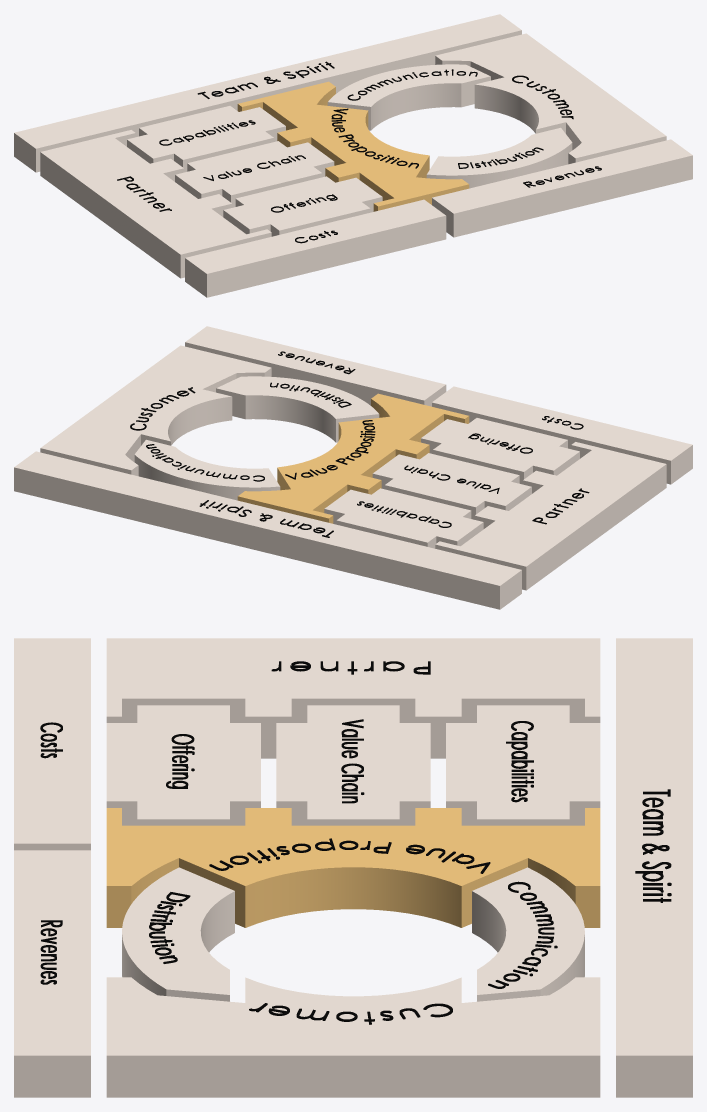
The model's file is 20250832_Canvas.glb.
The picture shows the model from 3 angles, top to bottom: view 1: azimuth 30°, elevation 25°; view 2: azimuth 150°, elevation 25°; view 3: azimuth 270°, elevation 25°; orthographic projection. The views are drawn at different scales.
Visible parts, largest first — view 1: 20250730_Partner-1, 20250730_Team-1, 20250730_Customer-1, 20250730_Costs-1, 20250730_Revenues-1, 20250730_Value Proposition_v3-1, 20250730_Capabilities-1, 20250730_Value Chain-1, 20250730_Offering-1, 20250730_Communication-1, 20250730_Distribution-1; view 2: 20250730_Team-1, 20250730_Partner-1, 20250730_Customer-1, 20250730_Value Proposition_v3-1, 20250730_Revenues-1, 20250730_Costs-1, 20250730_Value Chain-1, 20250730_Offering-1, 20250730_Capabilities-1, 20250730_Distribution-1, 20250730_Communication-1; view 3: 20250730_Customer-1, 20250730_Value Proposition_v3-1, 20250730_Partner-1, 20250730_Team-1, 20250730_Revenues-1, 20250730_Value Chain-1, 20250730_Capabilities-1, 20250730_Offering-1, 20250730_Costs-1, 20250730_Distribution-1, 20250730_Communication-1.
Boxes of the visible parts, box(x1,y1,x2,y2) form: 20250730_Partner-1: box(40, 130, 271, 278); 20250730_Team-1: box(14, 14, 521, 172); 20250730_Customer-1: box(435, 33, 666, 164); 20250730_Costs-1: box(185, 199, 446, 297); 20250730_Revenues-1: box(432, 139, 692, 237); 20250730_Value Proposition_v3-1: box(237, 81, 469, 211); 20250730_Capabilities-1: box(127, 106, 285, 172); 20250730_Value Chain-1: box(175, 141, 334, 207); 20250730_Offering-1: box(223, 176, 382, 236); 20250730_Communication-1: box(327, 64, 490, 130); 20250730_Distribution-1: box(426, 127, 572, 188); 20250730_Team-1: box(14, 451, 521, 609); 20250730_Partner-1: box(435, 442, 666, 590); 20250730_Customer-1: box(40, 345, 271, 476); 20250730_Value Proposition_v3-1: box(237, 393, 469, 523); 20250730_Revenues-1: box(185, 326, 446, 406); 20250730_Costs-1: box(432, 386, 692, 484); 20250730_Value Chain-1: box(372, 453, 531, 519); 20250730_Offering-1: box(421, 418, 579, 484); 20250730_Capabilities-1: box(324, 488, 483, 548); 20250730_Distribution-1: box(216, 376, 379, 442); 20250730_Communication-1: box(134, 439, 280, 500); 20250730_Customer-1: box(106, 977, 600, 1097); 20250730_Value Proposition_v3-1: box(106, 808, 600, 927); 20250730_Partner-1: box(106, 638, 600, 758); 20250730_Team-1: box(616, 638, 692, 1097); 20250730_Revenues-1: box(14, 850, 90, 1097); 20250730_Value Chain-1: box(276, 705, 430, 825); 20250730_Capabilities-1: box(446, 705, 600, 825); 20250730_Offering-1: box(106, 705, 260, 825); 20250730_Costs-1: box(14, 638, 90, 850); 20250730_Distribution-1: box(122, 867, 234, 1001); 20250730_Communication-1: box(472, 867, 584, 1001).
Size of the model in its own units: 1.28 by 0.062 by 0.88.
